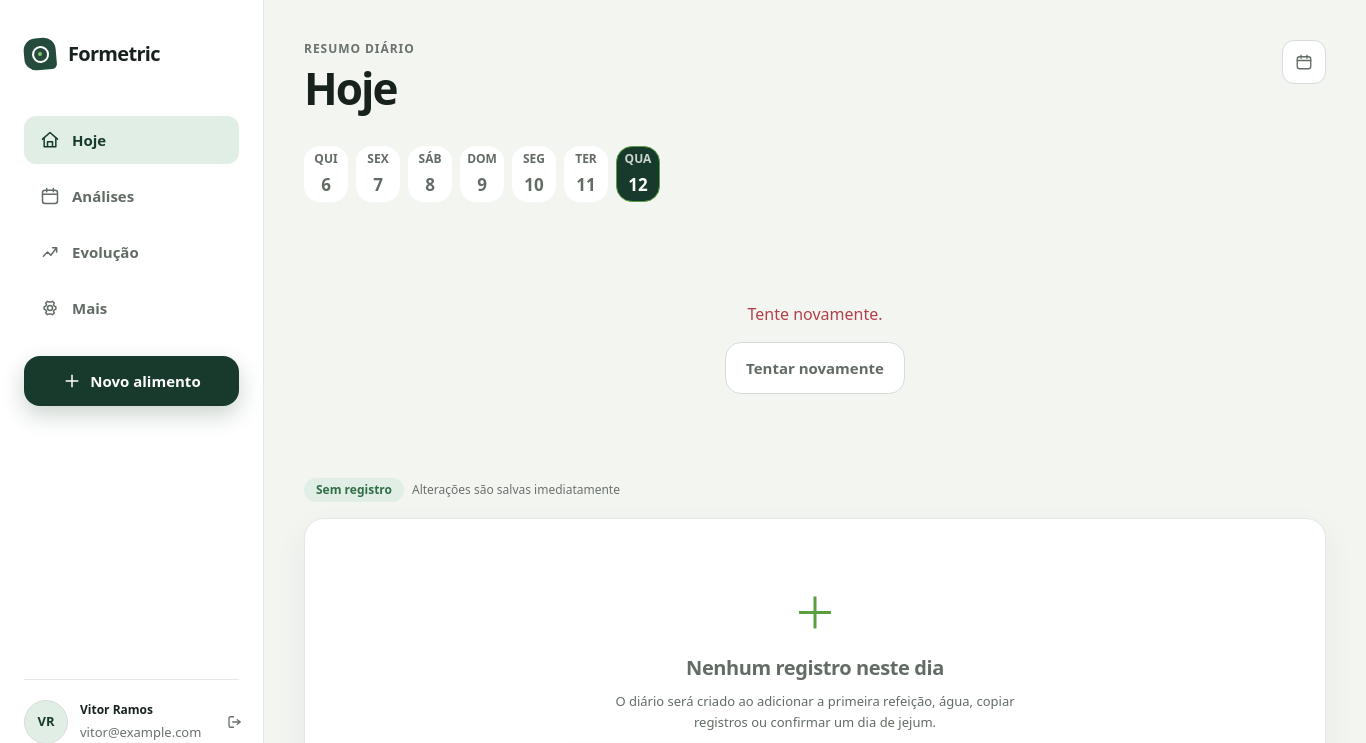
Scenario: painéis determinísticos › refaz o resumo do hoje do perfil após uma falha
Click the button "Tentar novamente". click: [815, 368]
box: top-left (725, 342), bottom-right (905, 394)
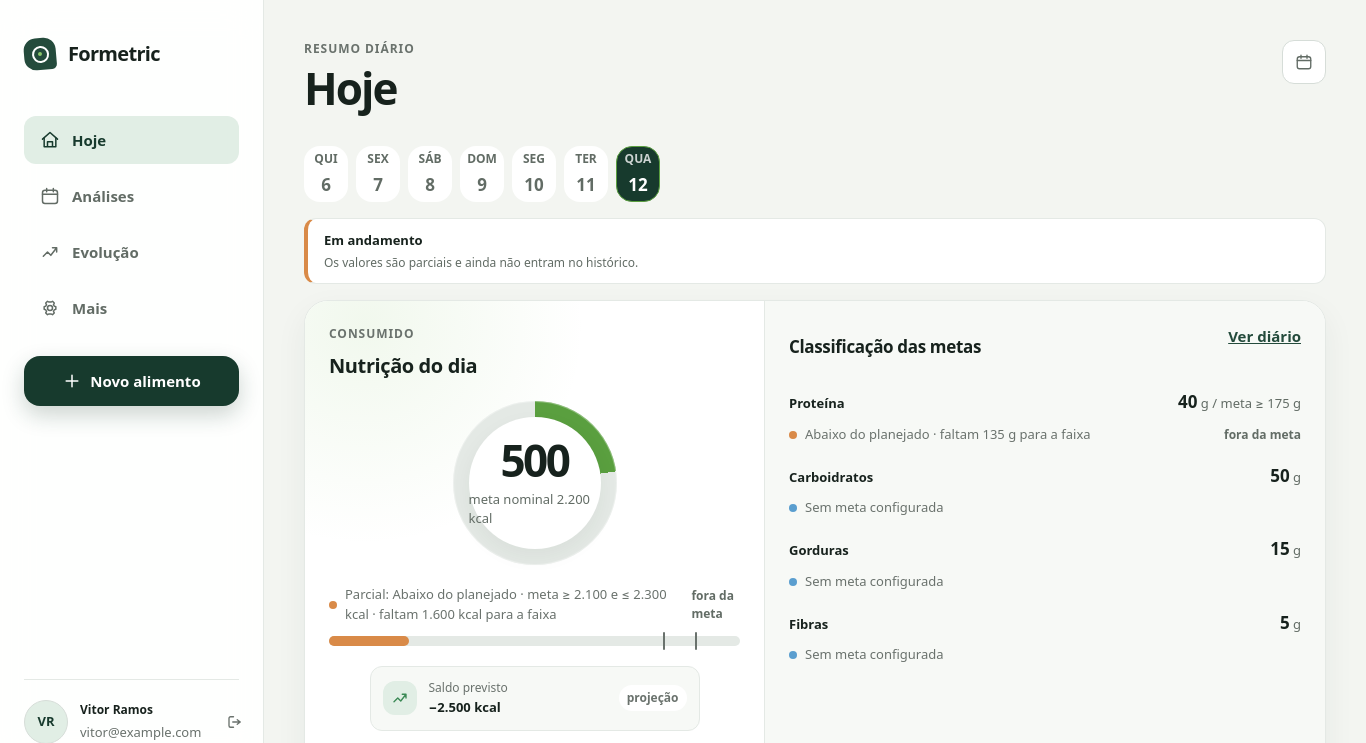
Expected: the text "Saldo previsto" is shown, top-left (428, 679), bottom-right (508, 696)
